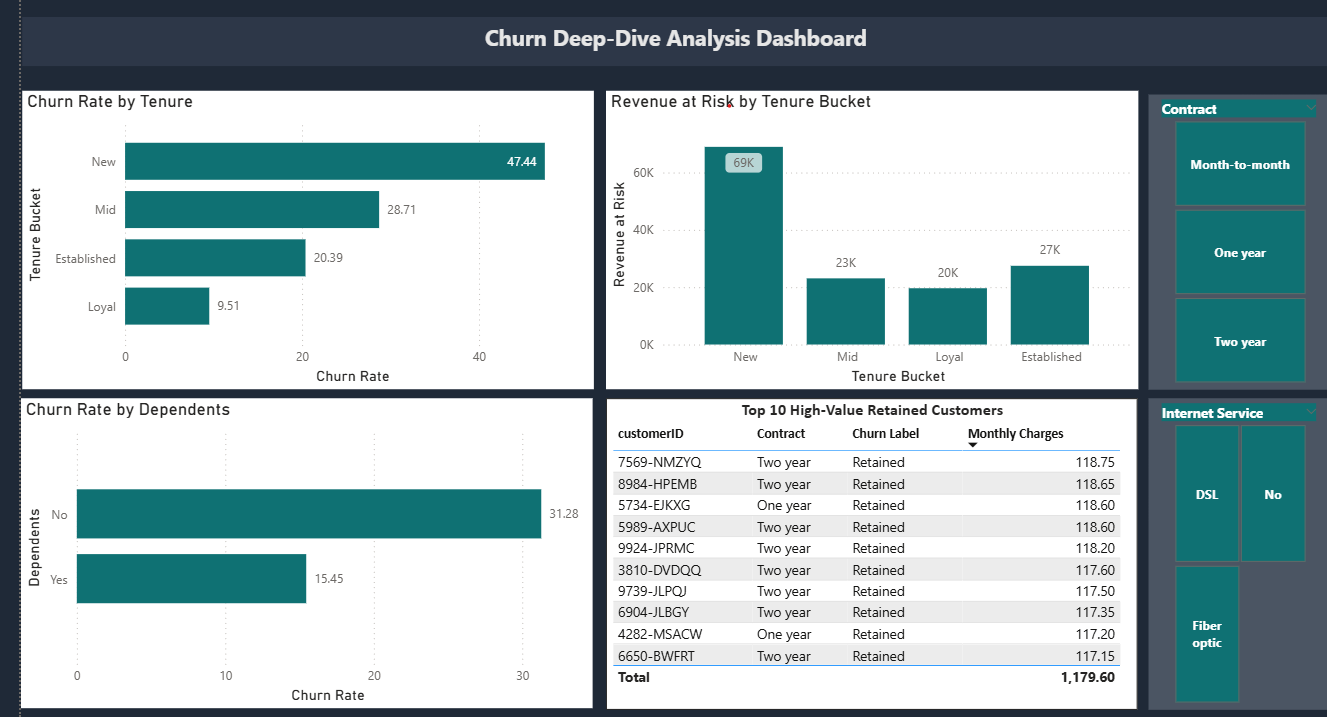

The dashboard page shown, as its layout file describes it:
{"tool":"powerbi","page":{"name":"Churn Deep-Dive","canvas":[1280,720],"ordinal":1},"visuals":[{"type":"barChart","title":"Churn Rate by Tenure","fields":{"Category":["Billing.Tenure_Bucket"],"Y":["Billing.Churn Rate"]},"box":[1.2,101.5,558.8,292.3],"z":0},{"type":"slicer","fields":{"Values":["Billing.Contract"]},"box":[1103,105.2,177.3,288.6],"z":1000},{"type":"slicer","fields":{"Values":["services.InternetService"]},"box":[1103,402.3,177.3,304.5],"z":2000},{"type":"lineClusteredColumnComboChart","fields":{"Category":["Billing.Tenure_Bucket"],"Y":["Billing.Revenue_at_Risk"]},"box":[572.3,101.5,520.9,292.3],"z":3000},{"type":"barChart","title":"Churn Rate by Dependents","fields":{"Y":["Billing.Churn Rate"],"Category":["Customers.Dependent2"]},"box":[0,402.3,558.8,303.3],"z":4000},{"type":"tableEx","title":"Top 10 High-Value Retained Customers","fields":{"Values":["Billing.customerID","Billing.Contract","ChurnStatus.Churn Label","Sum(Billing.MonthlyCharges)"]},"box":[572.3,402.3,519.7,304.5],"z":5000},{"type":"textbox","box":[1.2,29.3,1279.1,47.7],"z":6000}]}

Visuals, with their boxes in screenshot pixels (x1, y1, x2, y2):
"Churn Rate by Tenure" barChart: box(18, 89, 586, 386)
slicer - Billing.Contract: box(1138, 93, 1318, 386)
slicer - services.InternetService: box(1138, 395, 1318, 704)
lineClusteredColumnComboChart - Billing.Tenure_Bucket x Billing.Revenue_at_Risk: box(599, 89, 1128, 386)
"Churn Rate by Dependents" barChart: box(17, 395, 585, 703)
"Top 10 High-Value Retained Customers" tableEx: box(599, 395, 1127, 704)
textbox: box(18, 16, 1318, 64)
